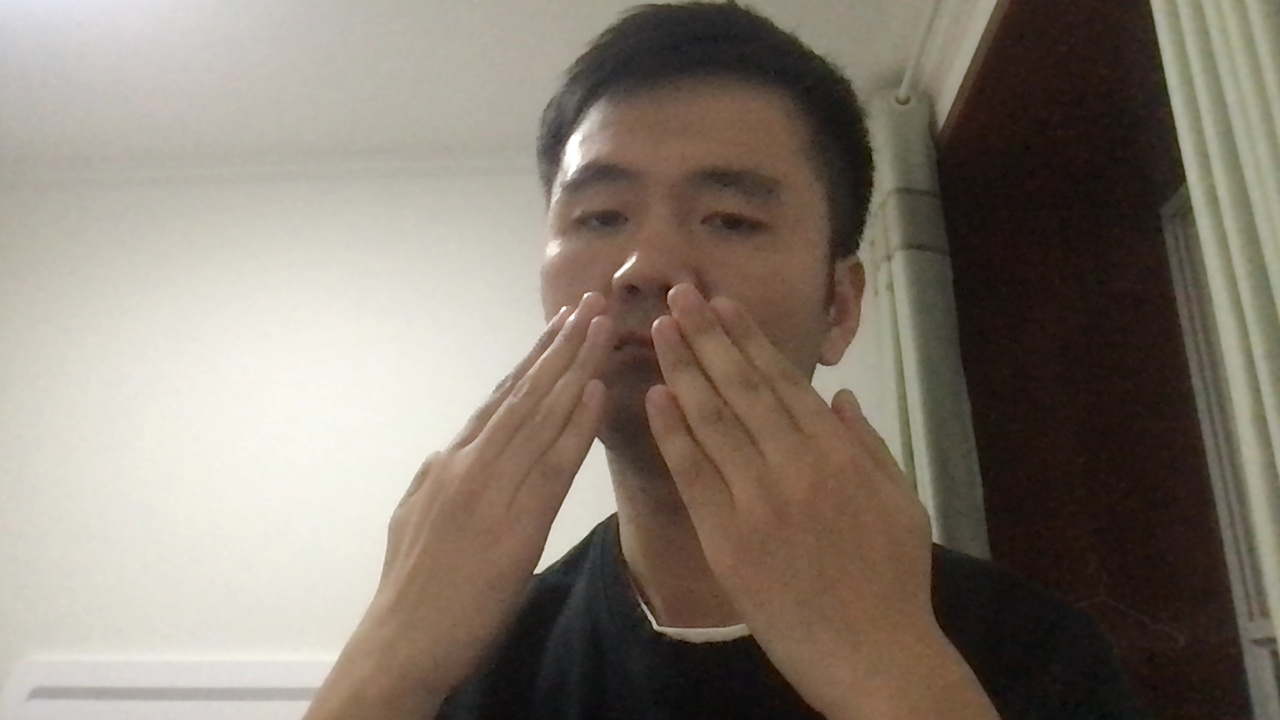thanks: (368, 281, 1004, 675)
